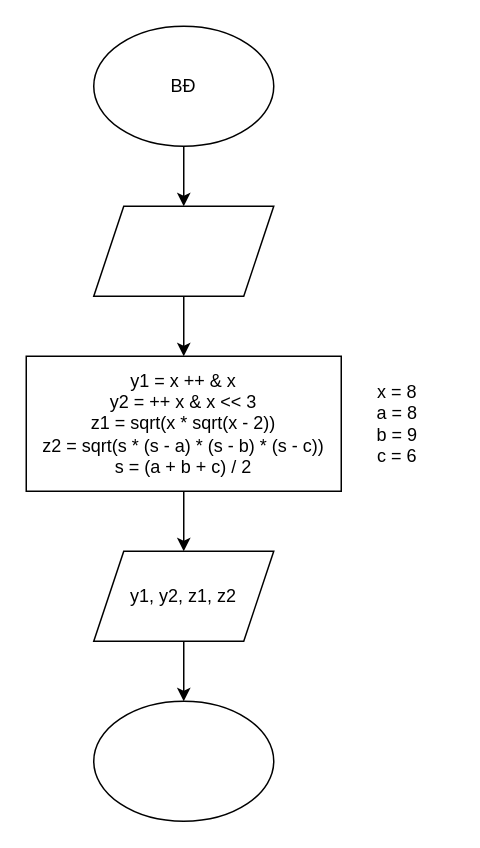
Some shapes in this 480 by 848 pixel diagram are drawn without their labels. Here are the shapes that lost their labels. From the top down, the centre of each, then its label:
point 183,250: x, a, b, c
point 183,760: KT
